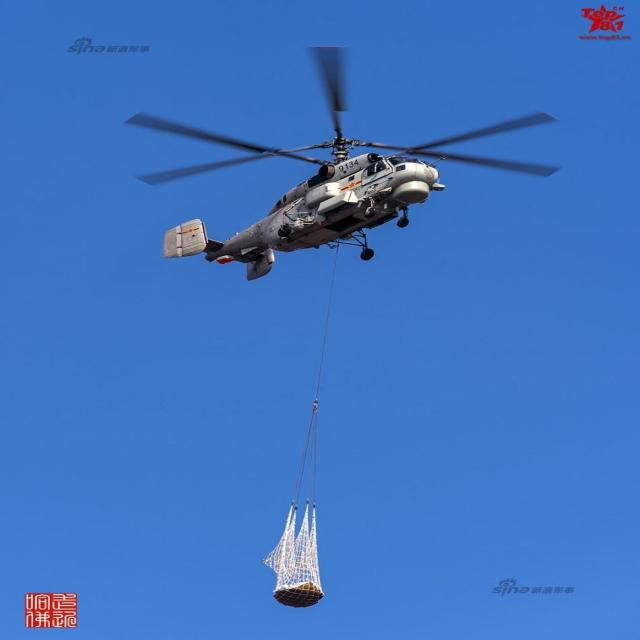MIL_HELO: (107, 41, 567, 274)
